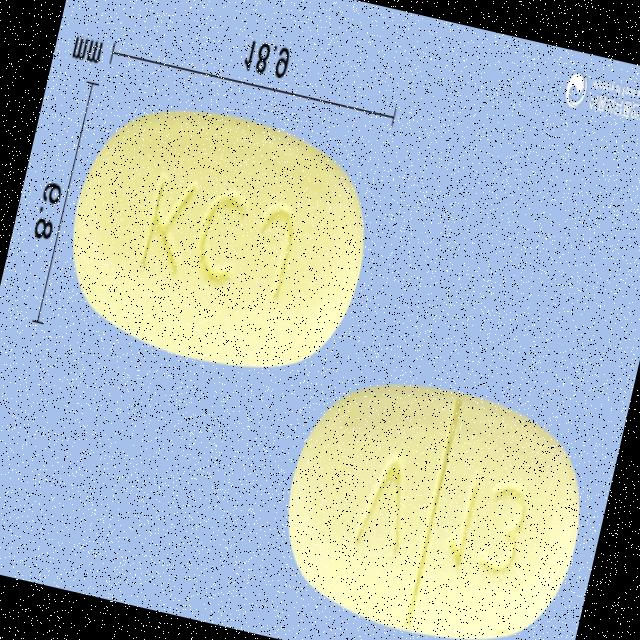Retami Tab: (48, 86, 388, 394), (262, 360, 604, 640)
